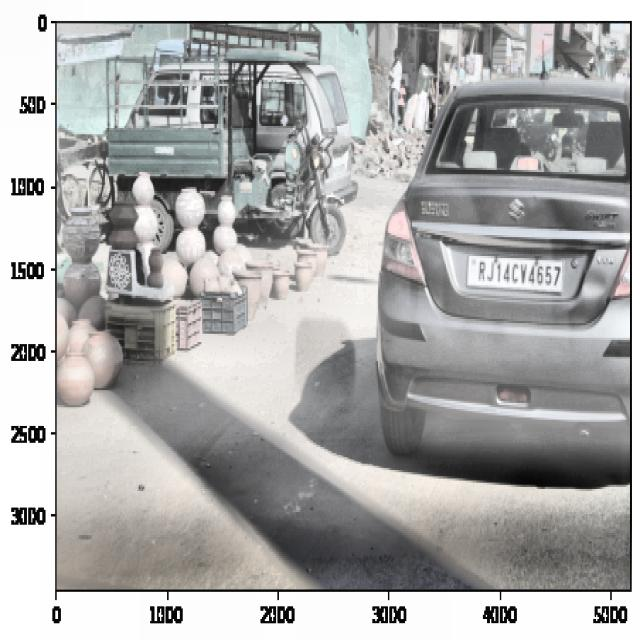license_plate: (474, 254, 565, 294)
